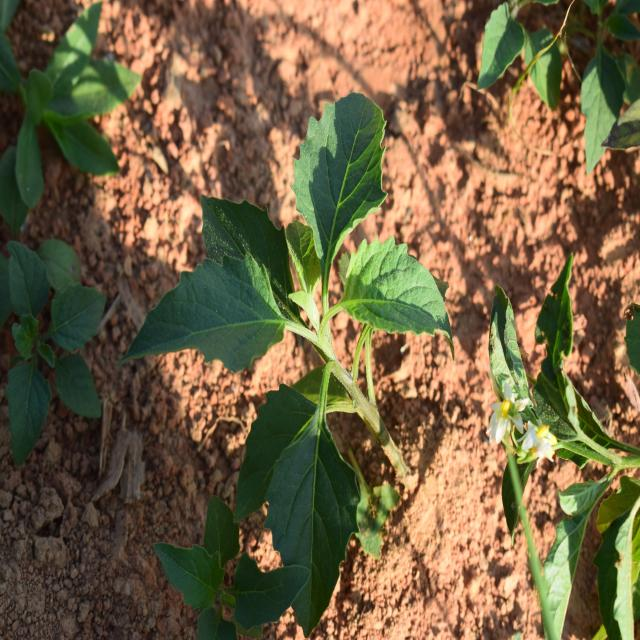Black_nightshade: (163, 107, 431, 568)
